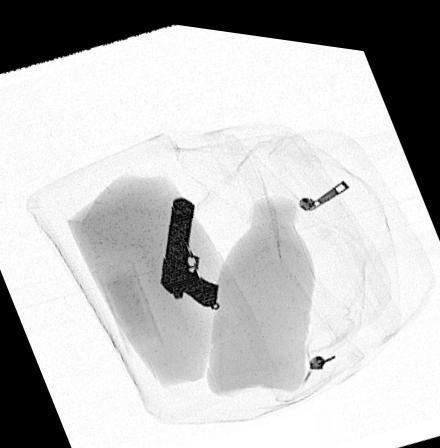Gun: (160, 191, 218, 302)
